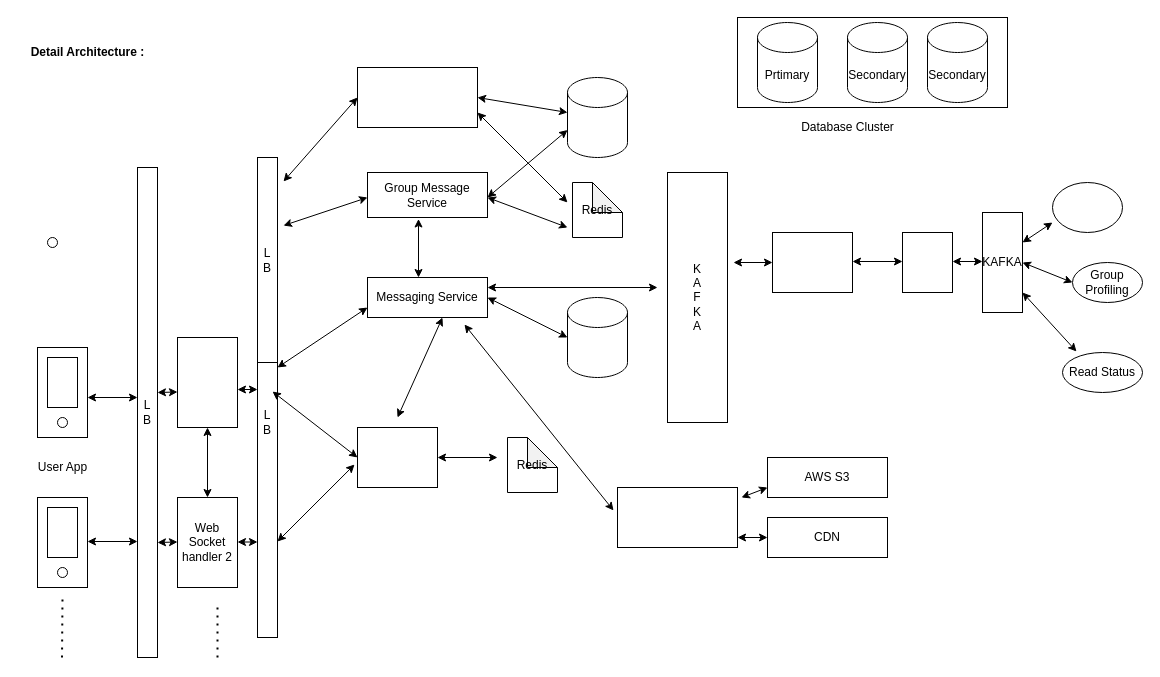
This 1160x677 diagram has some shape labels left out. Here are the shapes that lost their labels. From the top down, the box of each, then its label:
(356, 66, 478, 128): User Service
(566, 76, 628, 158): MySQL
(1052, 182, 1122, 232): User Profiling
(772, 232, 852, 292): Spark Analytics
(902, 232, 952, 292): Kafka Cluster
(566, 296, 628, 378): Cassandra
(176, 336, 238, 428): Web Socket handler 1
(356, 426, 438, 488): Web Socket Manager
(616, 486, 738, 548): Asset Service
